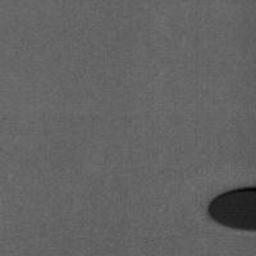Punching: (209, 187, 256, 230)
